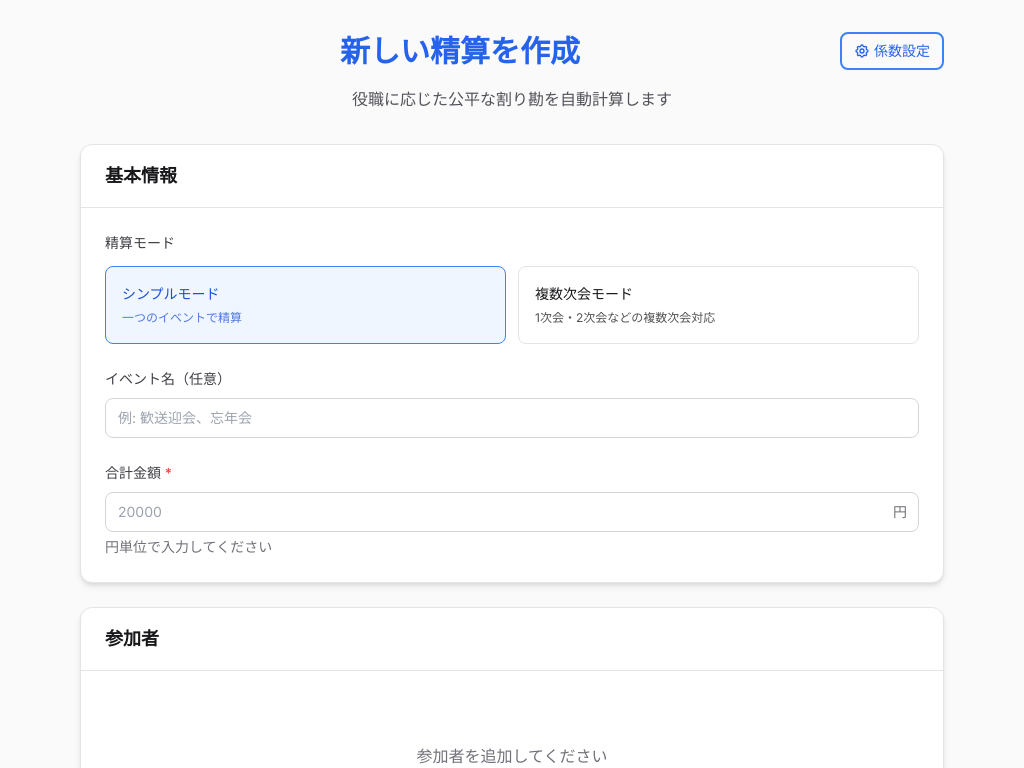
HomePage › TC011: 係数設定モーダルが表示される
This screenshot has width=1024, height=768.
# 最初の係数設定ボタンをクリック（デスクトップ版）
Click the button "係数設定" at [892, 51], box [840,32,944,70]
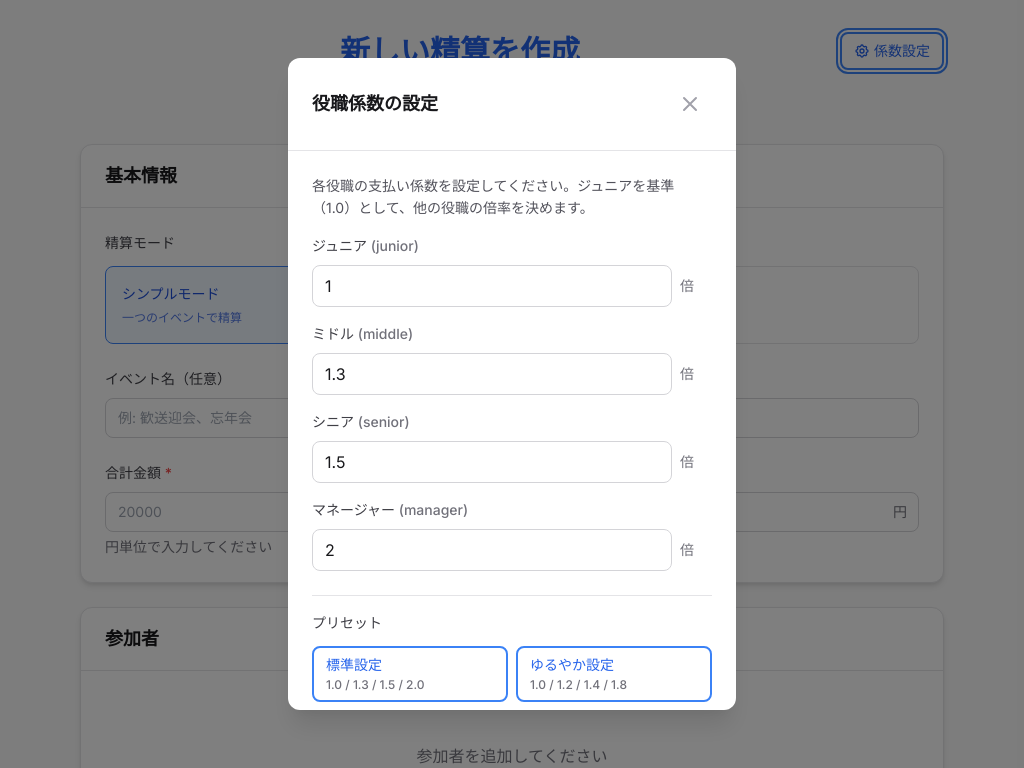
Expected: the heading "役職係数の設定" is shown, [312,89,454,119]
Expected: the number field labelled "ジュニア (junior)" is shown, [312,265,672,307]
Expected: the number field labelled "ミドル (middle)" is shown, [312,353,672,395]
